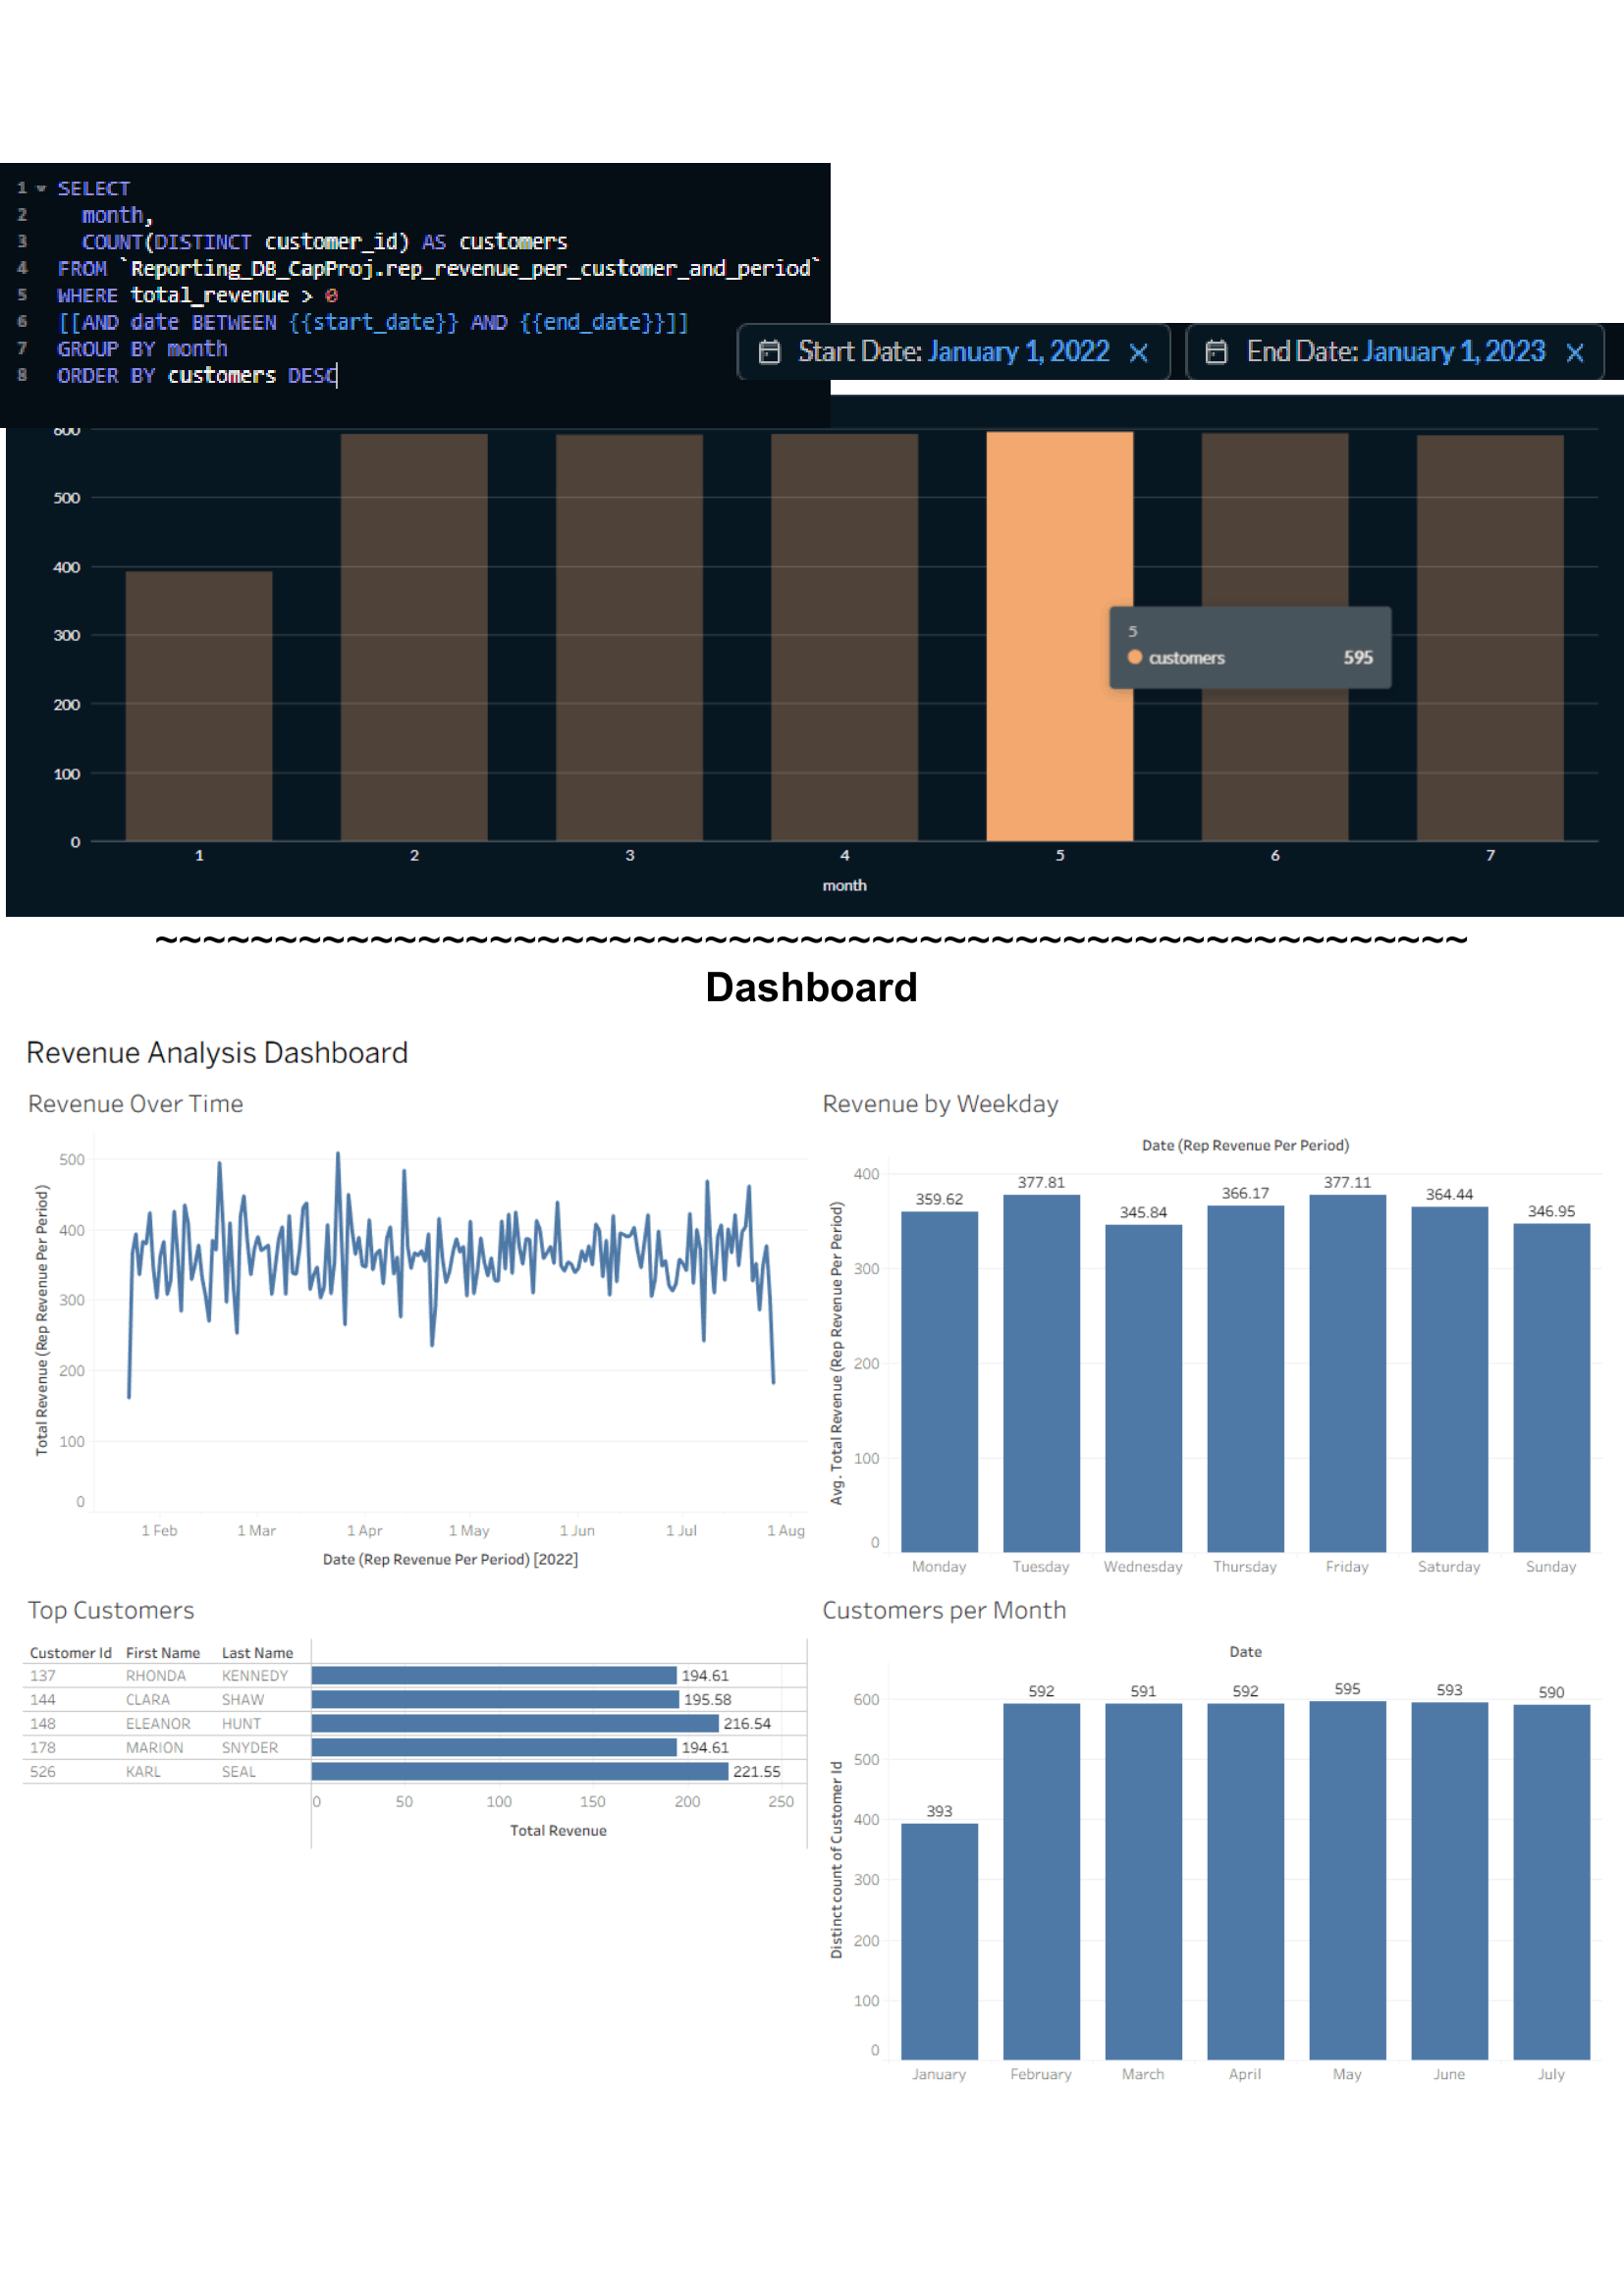

The page's visual inventory and layout, read from the dashboard file:
{"tool":"tableau","page":{"name":"Revenue Dashboard","canvas":[1500,900],"ordinal":0},"visuals":[{"type":"title","box":[8,8,1484,39]},{"type":"worksheet","title":"Revenue Over Time","mark":"Automatic","rows":["total_revenue (rep_revenue_per_period)"],"cols":["reporting_date"],"box":[8,47,661.9,422.5]},{"type":"worksheet","title":"Revenue by Weekday","mark":"Bar","rows":["total_revenue (rep_revenue_per_period)"],"cols":["reporting_date"],"box":[669.9,47,662.1,422.5]},{"type":"filter","title":"Revenue Over Time","param":"[federated.16v10dg1bza3gy1da6gvr0sac4iu].[tdy:date:qk]","box":[1332,47,160,68]},{"type":"worksheet","title":"Top Customers","mark":"Automatic","rows":["customer_id","first_name","last_name"],"cols":["total_revenue"],"box":[8,469.5,661.9,422.5]},{"type":"worksheet","title":"Customers per Month","mark":"Bar","rows":["customer_id"],"cols":["date"],"box":[669.9,469.5,662.1,422.5]}]}

Visuals, with their boxes on the page's 1500x900 design canvas (x1, y1, x2, y2). These are canvas units, not pixel positions in the 1624x2296 screenshot, which may show the page scaled, cropped or inside an application window:
title: <box>8,8,1492,47</box>
"Revenue Over Time" worksheet: <box>8,47,670,470</box>
"Revenue by Weekday" worksheet (Bar marks): <box>670,47,1332,470</box>
"Revenue Over Time" filter: <box>1332,47,1492,115</box>
"Top Customers" worksheet: <box>8,470,670,892</box>
"Customers per Month" worksheet (Bar marks): <box>670,470,1332,892</box>
